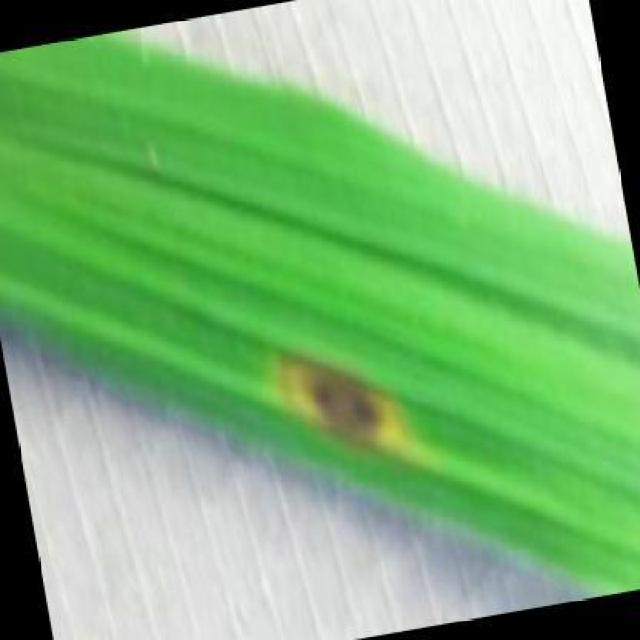Leaf_Blast: (248, 314, 429, 498)
